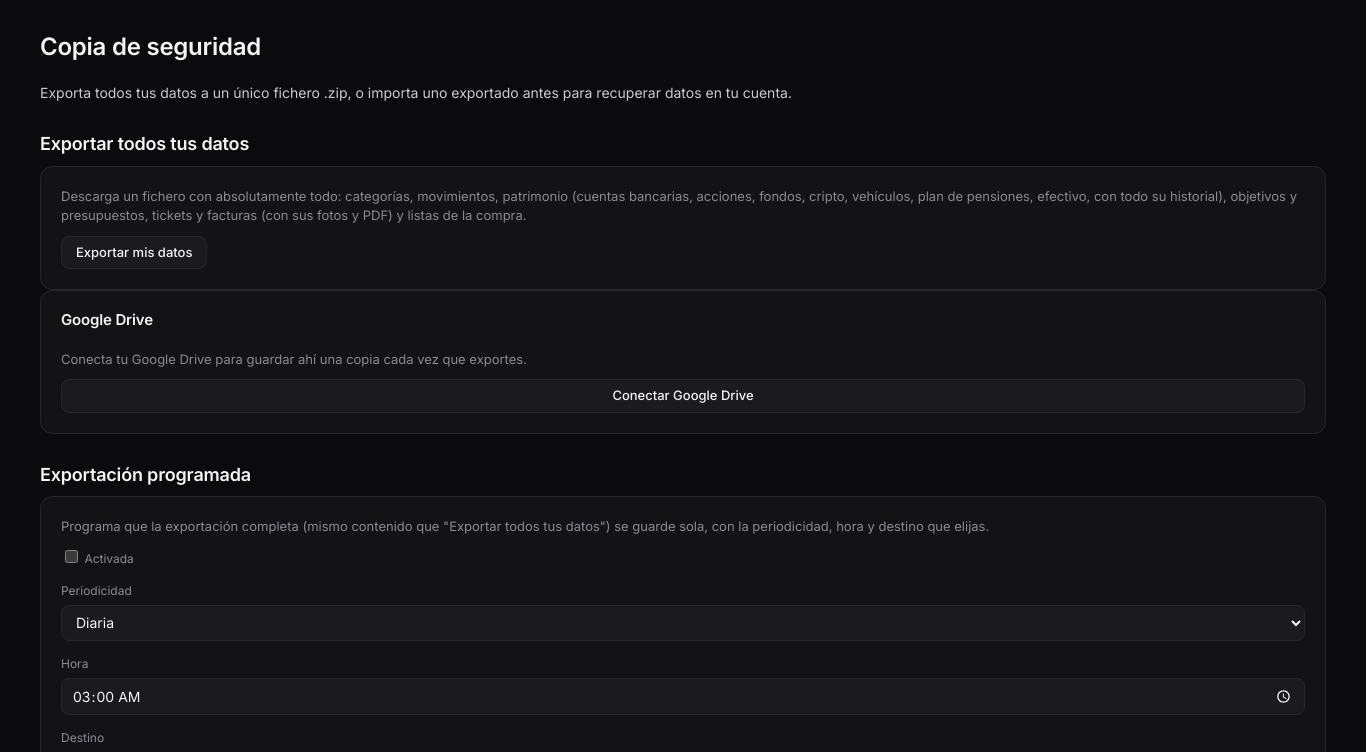
Test: BackupPage › Exportar (H1) › si falla la exportación, muestra el error
Click the button "Exportar mis datos" at (134, 252), box [61, 236, 208, 269]
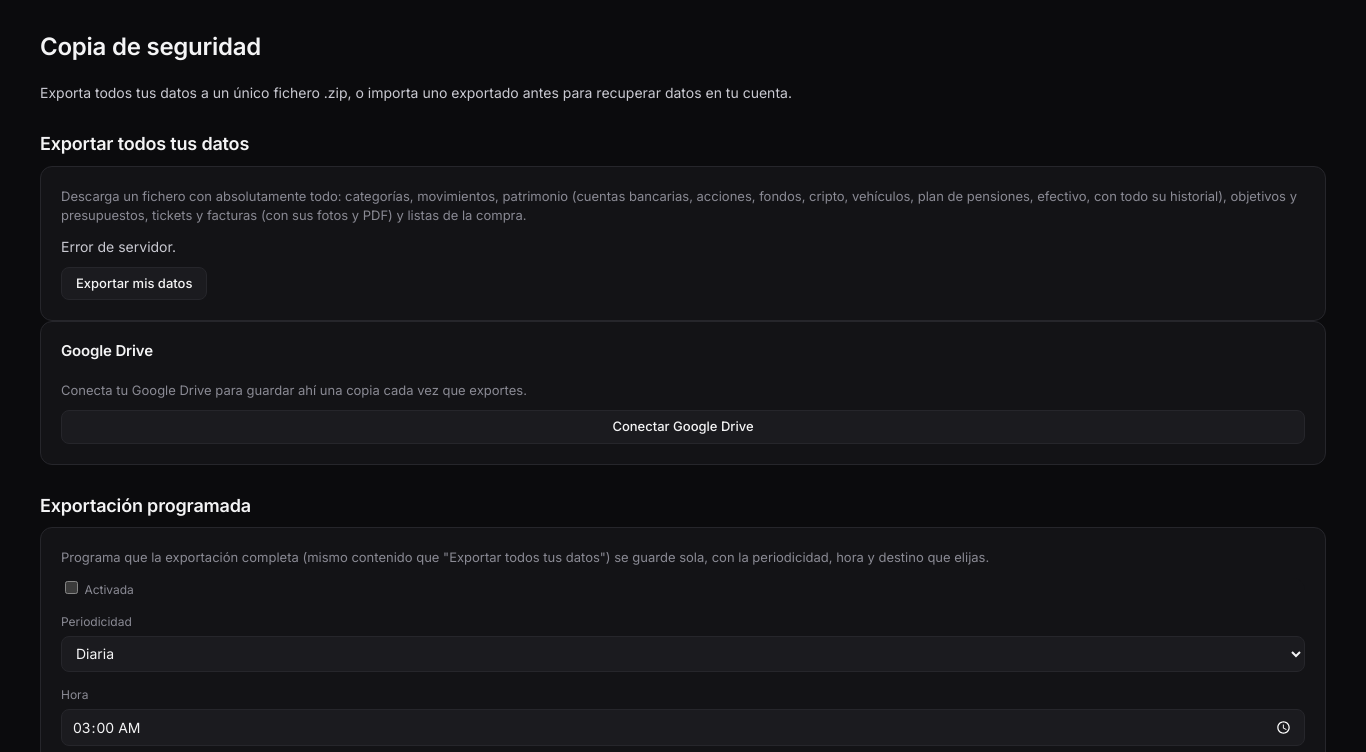
Expected: the message reads "Error de servidor.", [61, 238, 176, 254]
